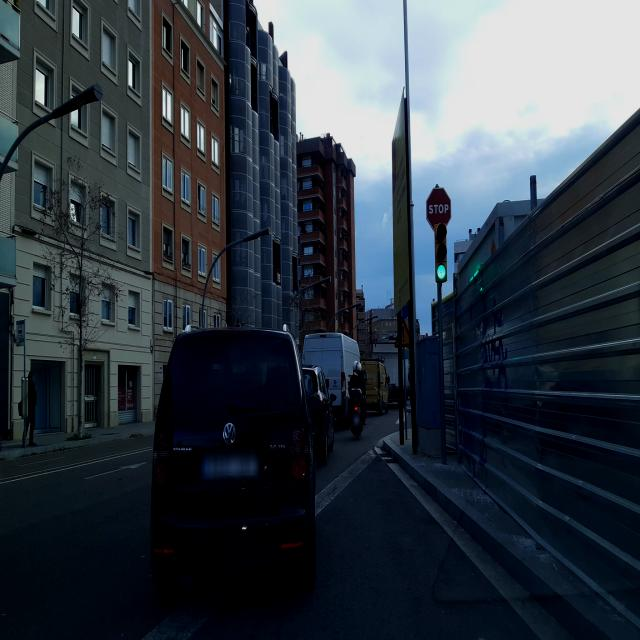bike: (349, 388, 364, 440)
car: (150, 323, 318, 598), (302, 330, 366, 434), (300, 364, 334, 466), (362, 357, 388, 416)
